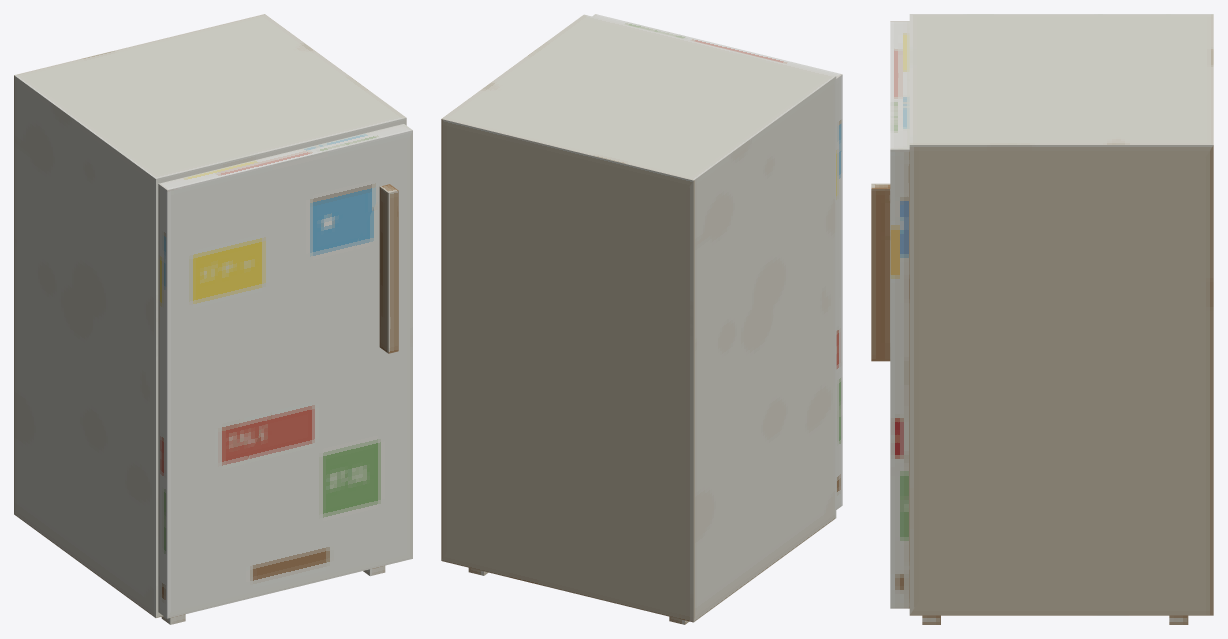
Rendered from minifridge.glb.
3 renders of one model, left to right at view 1: azimuth 30°, elevation 25°; view 2: azimuth 150°, elevation 25°; view 3: azimuth 270°, elevation 25°, orthographic. The views are drawn at different scales.
Parts seen in each view (by area): view 1: mesh; view 2: mesh; view 3: mesh.
Part boxes in pixels (box(x1,y1,x2,y2)): mesh: box(14, 14, 412, 624); mesh: box(441, 14, 842, 624); mesh: box(871, 14, 1213, 624).
Bounding box in the file's own units: 0.49 × 0.85 × 0.54.
Materials: 1 (1 with a texture image).
